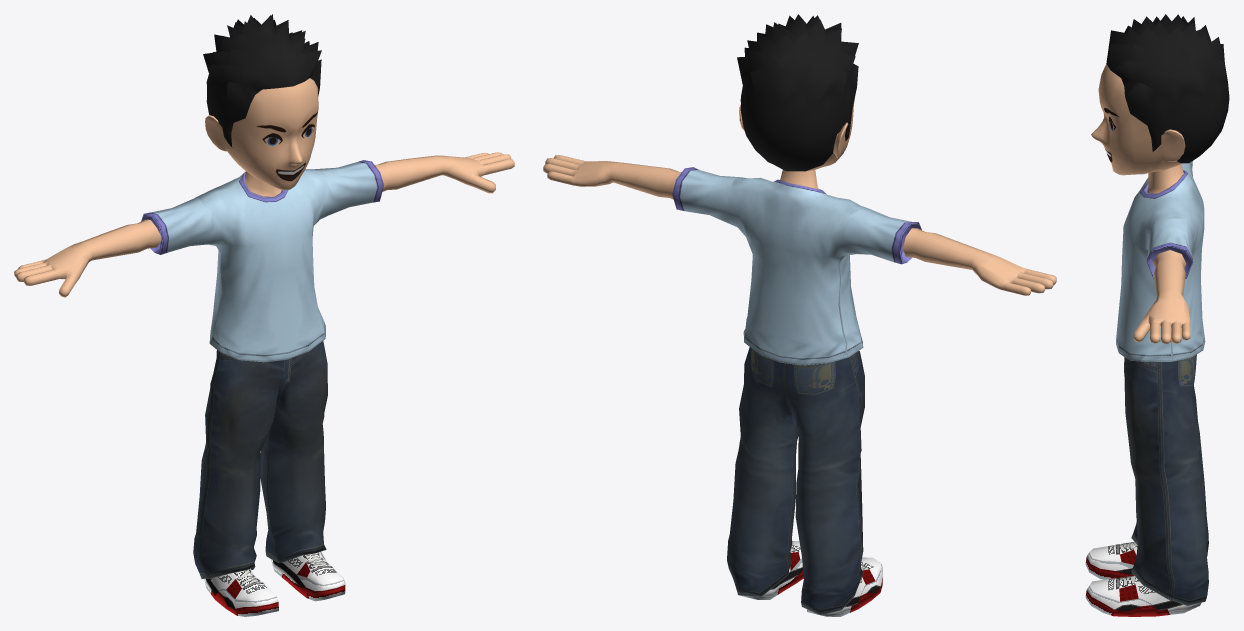
The model's file is MS3D - Male Spikey Hair Jeans.glb.
3 views of the same model, side by side, from view 1: azimuth 30°, elevation 25°; view 2: azimuth 150°, elevation 25°; view 3: azimuth 270°, elevation 25° (orthographic). The views are drawn at different scales.
Visible parts, largest first — view 1: boy_shoes_Natal.9; view 2: boy_shoes_Natal.9; view 3: boy_shoes_Natal.9.
Boxes of the visible parts, x1,y1,x2,y2 form: boy_shoes_Natal.9: (14, 14, 514, 616); boy_shoes_Natal.9: (543, 14, 1056, 616); boy_shoes_Natal.9: (1085, 14, 1229, 616).
Bounding box in the file's own units: 1.42 × 1.55 × 0.3539.
5 materials, 5 textured.
